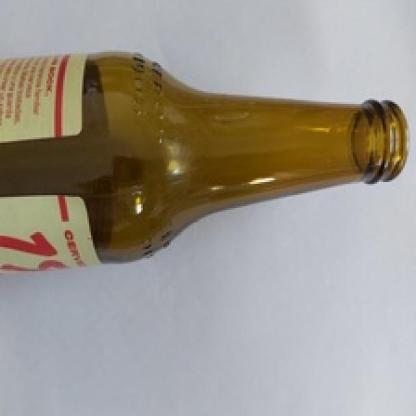Can: (0, 50, 411, 272)
